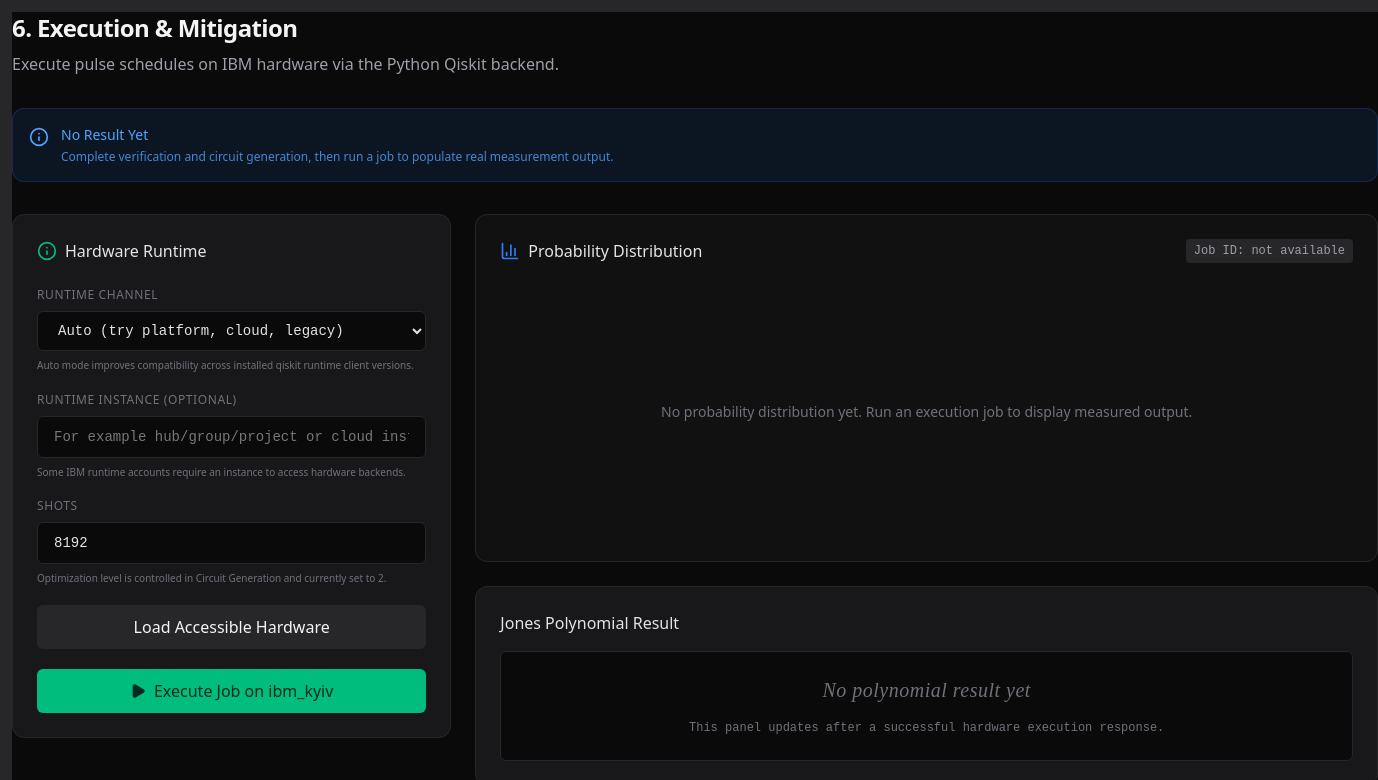
Scenario: ExecutionResults › disables execution when shots input is invalid
Expected: the button "Execute Job on ibm_kyiv" is enabled, [37, 668, 426, 712]
Clear the number field at (232, 543), box [37, 522, 426, 564]
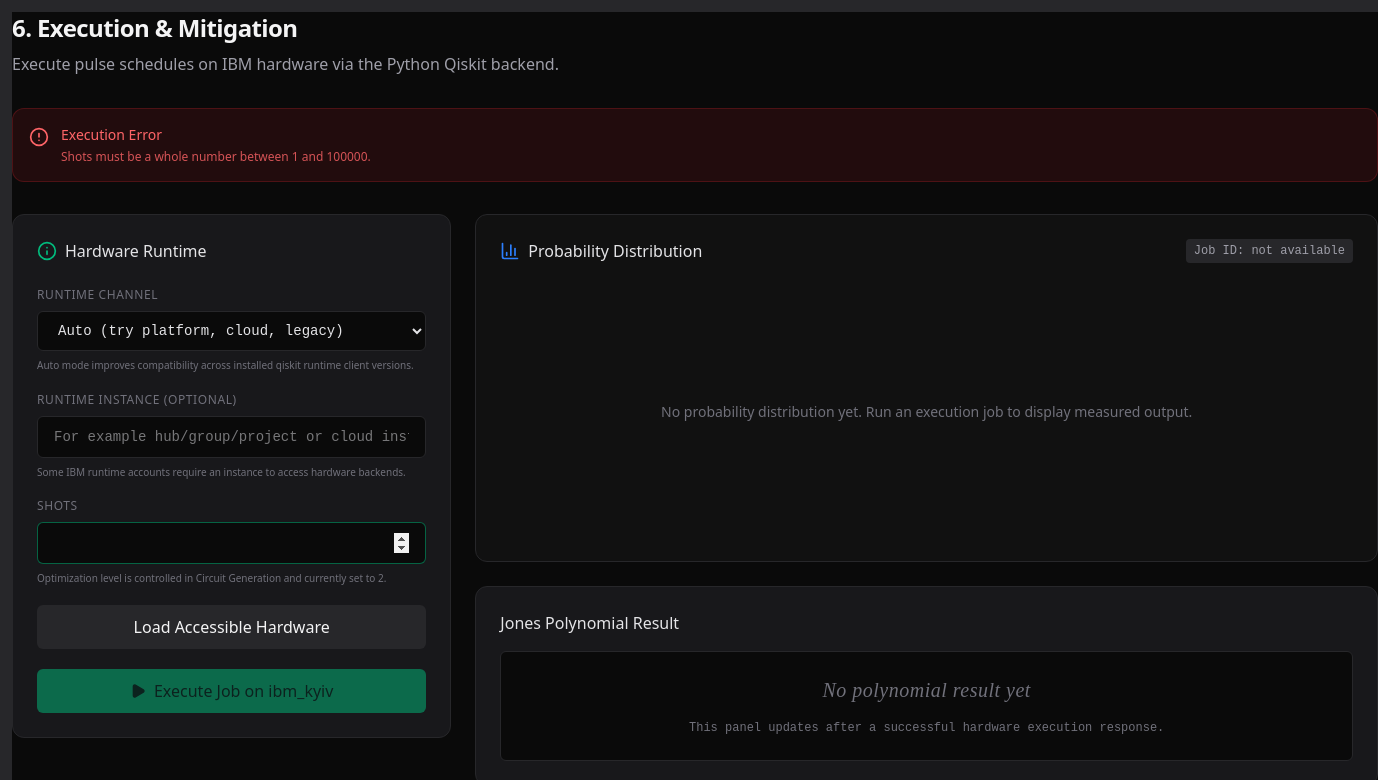
Expected: the button "Execute Job on ibm_kyiv" is disabled, [37, 668, 426, 712]
Expected: the text "Shots must be a whole number between 1 and 100000." is shown, [61, 149, 371, 165]
